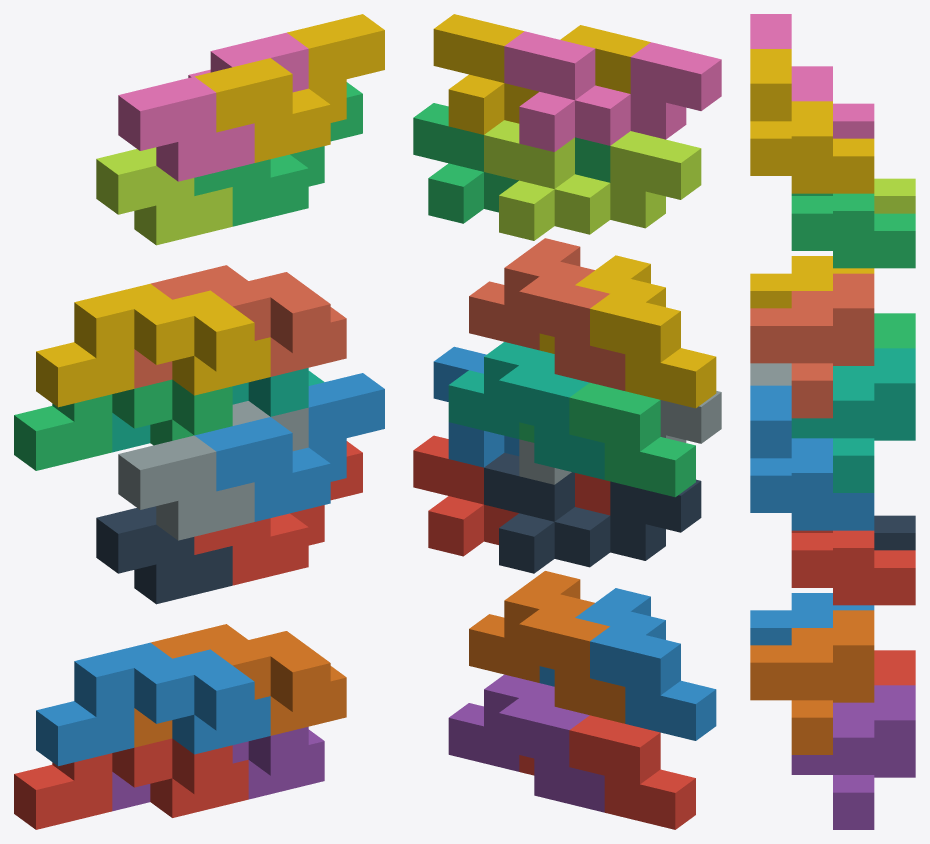
Rendered from tiling.obj.
The picture shows the model from 3 angles, left to right: view 1: azimuth 30°, elevation 25°; view 2: azimuth 150°, elevation 25°; view 3: azimuth 270°, elevation 25°; orthographic projection. The views are drawn at different scales.
Visible parts, largest first — view 1: copy_1_domain_2, copy_1_domain_4, copy_2_domain_8, copy_2_domain_6, copy_1_domain_1, copy_2_domain_4, copy_1_domain_3, copy_2_domain_2, copy_1_domain_8, copy_1_domain_6, copy_2_domain_1, copy_2_domain_3 (+4 smaller); view 2: copy_2_domain_4, copy_2_domain_3, copy_2_domain_1, copy_1_domain_6, copy_1_domain_8, copy_1_domain_4, copy_1_domain_2, copy_1_domain_5, copy_1_domain_7, copy_2_domain_8, copy_1_domain_3, copy_1_domain_1 (+4 smaller); view 3: copy_1_domain_8, copy_1_domain_6, copy_2_domain_8, copy_2_domain_6, copy_1_domain_5, copy_1_domain_7, copy_2_domain_5, copy_2_domain_7, copy_2_domain_4, copy_1_domain_4, copy_1_domain_2, copy_1_domain_1 (+4 smaller).
Boxes of the visible parts, <box> form: copy_1_domain_2: <box>36,642,270,766</box>; copy_1_domain_4: <box>36,283,270,407</box>; copy_2_domain_8: <box>194,14,384,162</box>; copy_2_domain_6: <box>194,373,384,521</box>; copy_1_domain_1: <box>14,738,248,829</box>; copy_2_domain_4: <box>118,32,308,181</box>; copy_1_domain_3: <box>14,379,232,470</box>; copy_2_domain_2: <box>118,401,308,540</box>; copy_1_domain_8: <box>134,265,346,388</box>; copy_1_domain_6: <box>134,624,346,747</box>; copy_2_domain_1: <box>96,506,232,604</box>; copy_2_domain_3: <box>96,147,232,245</box>; copy_2_domain_4: <box>504,31,721,151</box>; copy_2_domain_3: <box>484,120,701,240</box>; copy_2_domain_1: <box>484,453,701,573</box>; copy_1_domain_6: <box>469,571,625,723</box>; copy_1_domain_8: <box>469,238,625,390</box>; copy_1_domain_4: <box>539,255,716,408</box>; copy_1_domain_2: <box>539,588,716,740</box>; copy_1_domain_5: <box>448,674,604,812</box>; copy_1_domain_7: <box>448,342,604,479</box>; copy_2_domain_8: <box>433,14,650,134</box>; copy_1_domain_3: <box>519,382,695,497</box>; copy_1_domain_1: <box>519,715,695,829</box>; copy_1_domain_8: <box>750,273,874,418</box>; copy_1_domain_6: <box>750,610,874,754</box>; copy_2_domain_8: <box>750,49,874,193</box>; copy_2_domain_6: <box>750,385,874,530</box>; copy_1_domain_5: <box>791,685,915,829</box>; copy_1_domain_7: <box>791,348,915,492</box>; copy_2_domain_5: <box>791,530,915,605</box>; copy_2_domain_7: <box>791,193,915,268</box>; copy_2_domain_4: <box>750,14,874,138</box>; copy_1_domain_4: <box>750,256,874,308</box>; copy_1_domain_2: <box>750,593,874,645</box>; copy_1_domain_1: <box>874,650,915,685</box>.
Size of the model in its own units: 8 by 19 by 4.
